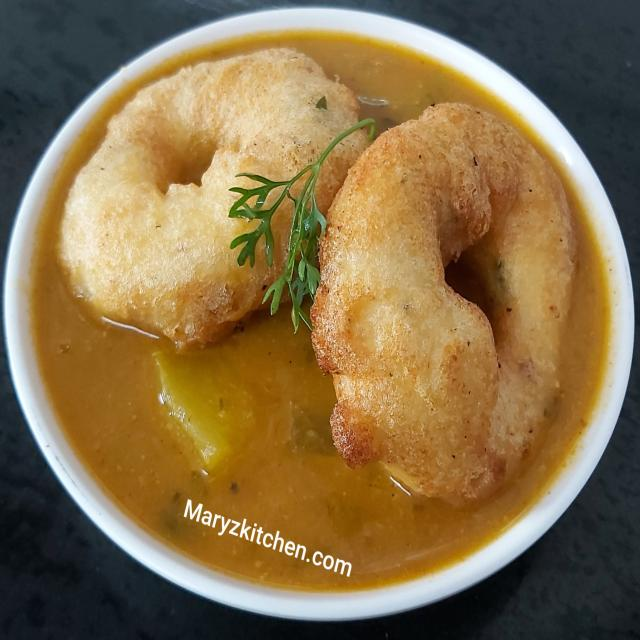VADA: (57, 43, 581, 503)
